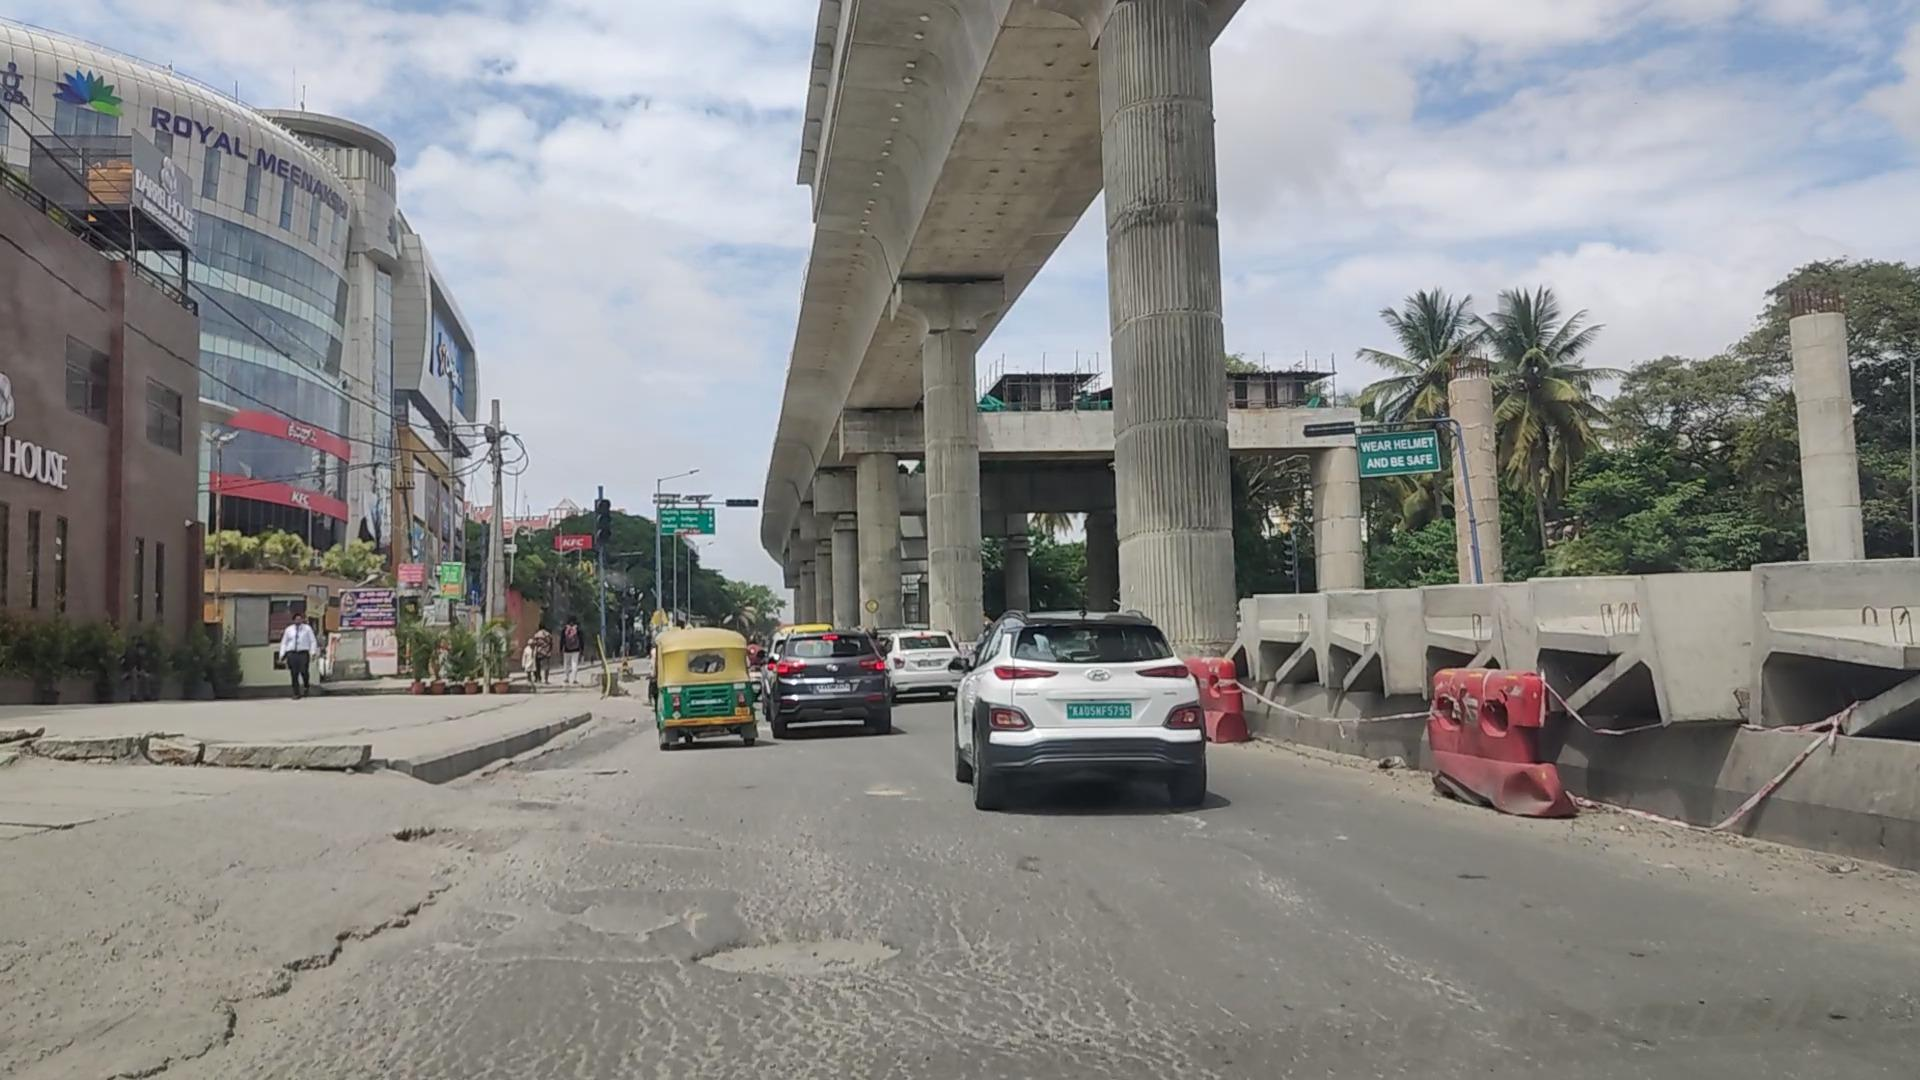LMV: (938, 611, 1220, 800), (781, 632, 891, 735), (661, 634, 758, 738)
RoadDamages: (451, 985, 699, 1080), (704, 911, 903, 1005), (1014, 944, 1139, 1080), (578, 868, 691, 978)
